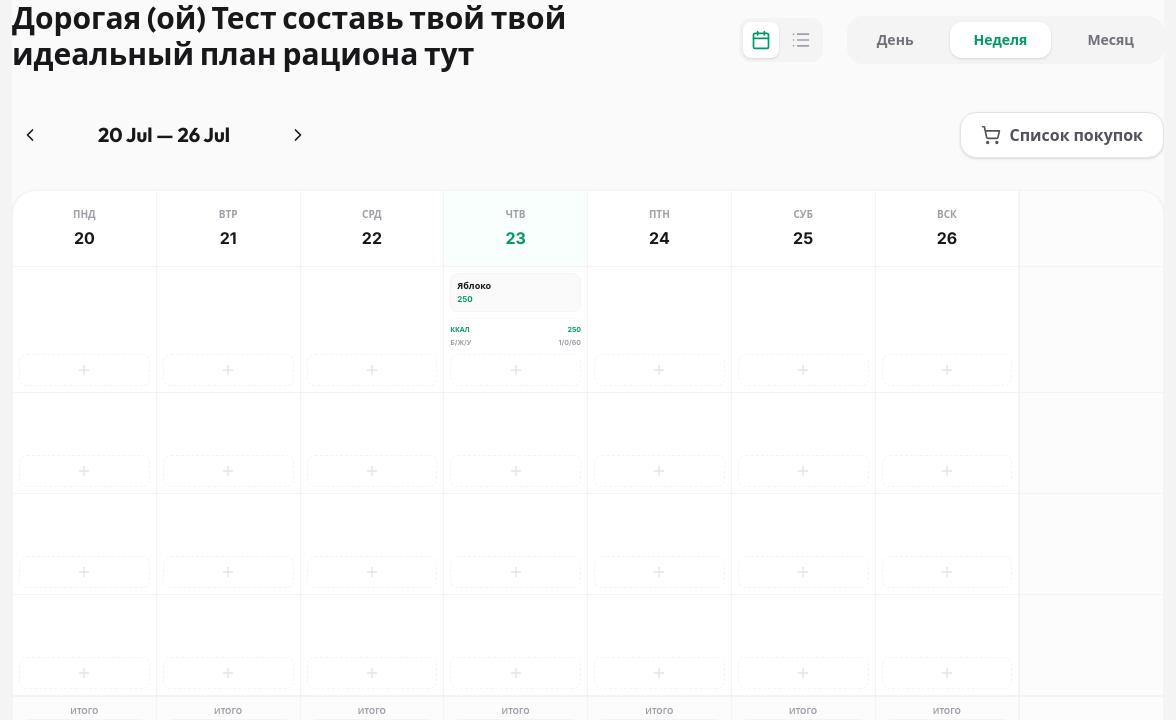
Scenario: PlannerView › counts product entries towards month view calorie total
Click the button "Месяц": (1111, 40) [1063, 22, 1158, 58]
(page scrolled)
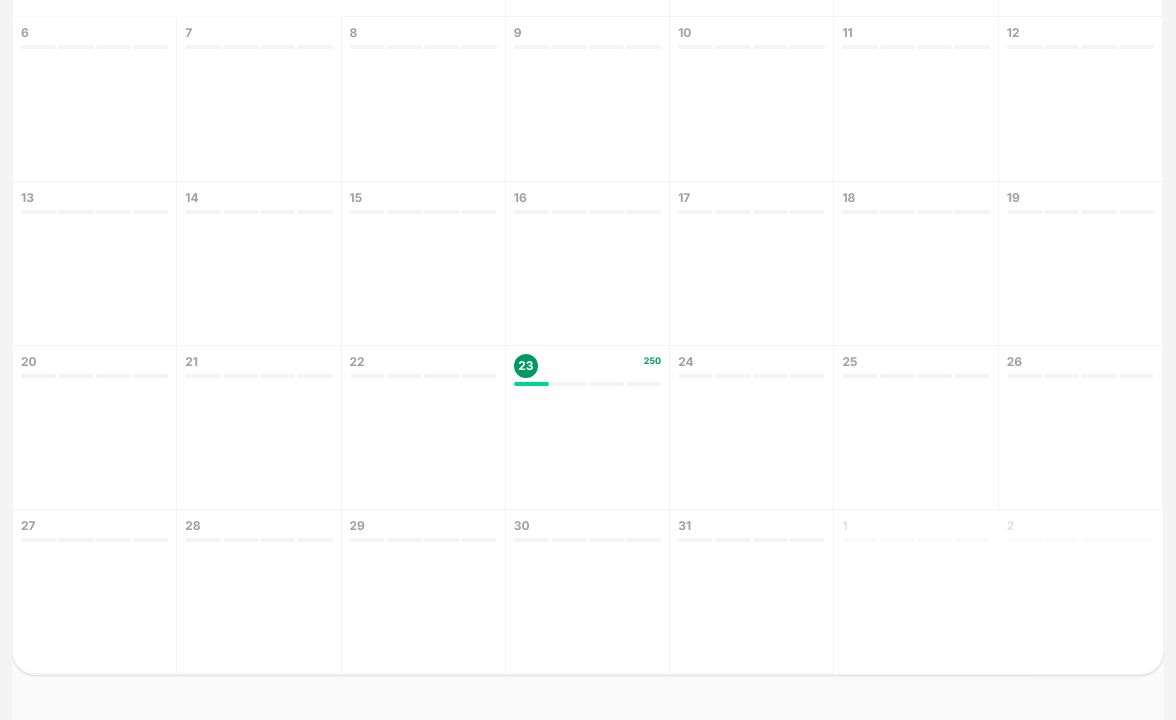
expect the text "250" is shown: met, box [644, 354, 661, 367]
